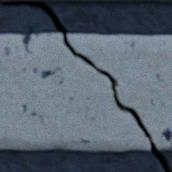brick: (42, 0, 171, 2)
broken_brick: (0, 33, 148, 150), (67, 34, 171, 148)
crack: (0, 0, 171, 171)
